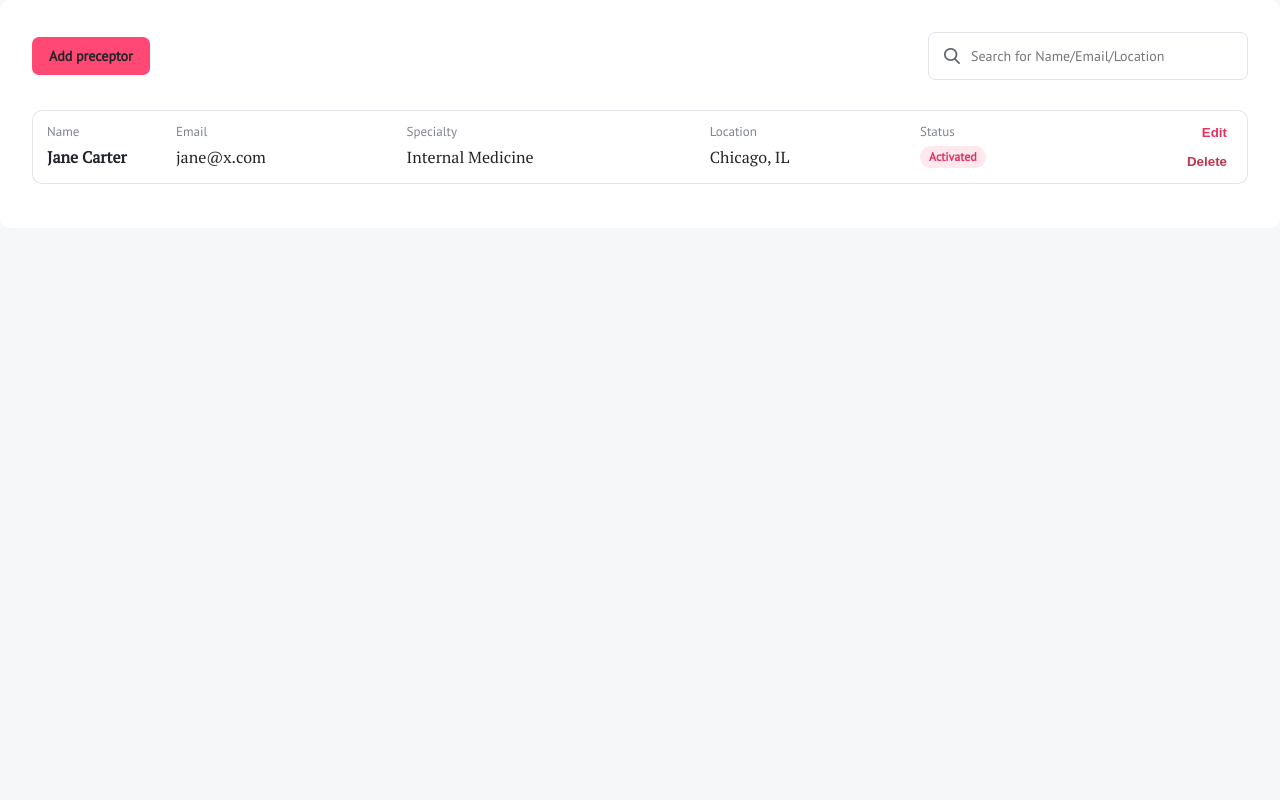
Test case: PreceptorsPage › creates a preceptor, mapping blank optionals to null
Expected: the text "Jane Carter" is shown, [47, 146, 127, 168]
Click the button "Add preceptor" at (91, 56), box [32, 37, 150, 75]
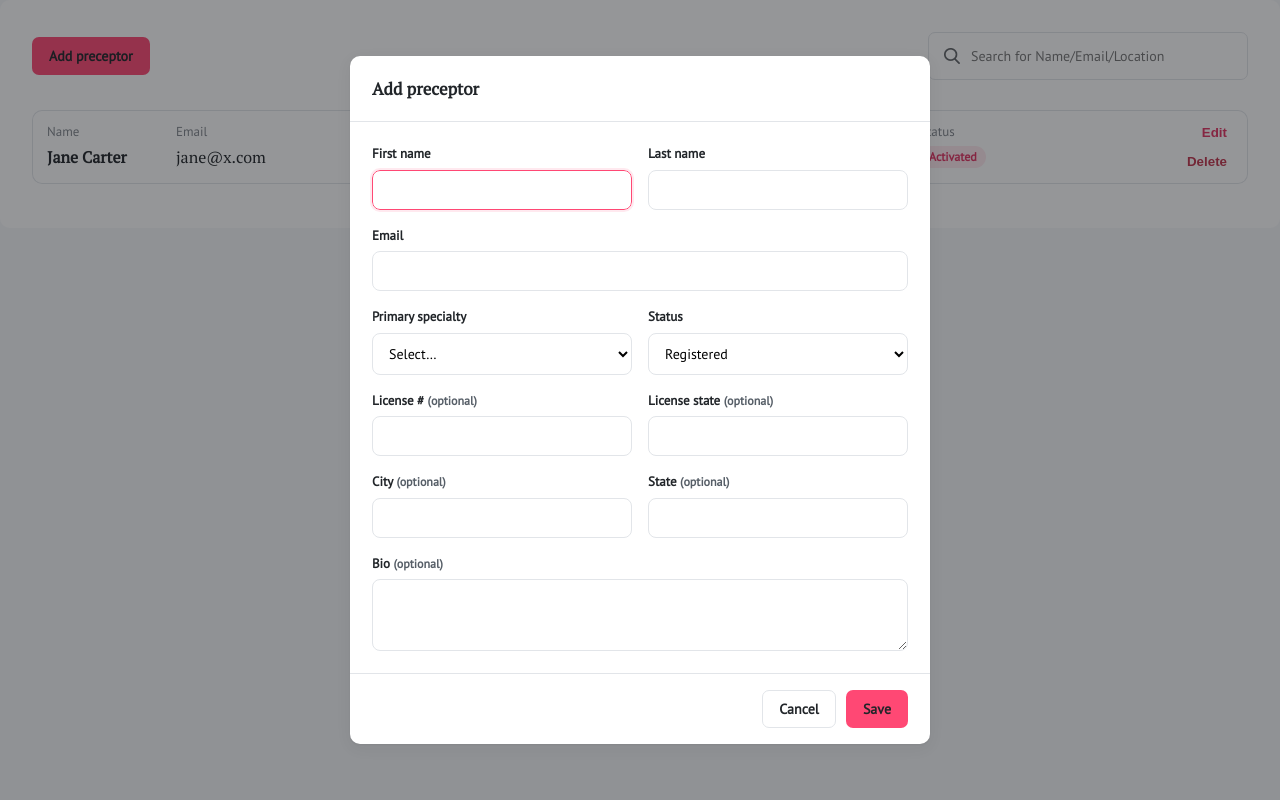
Type "Omar" into the field labelled "First name" at (502, 190), box [372, 170, 632, 210]
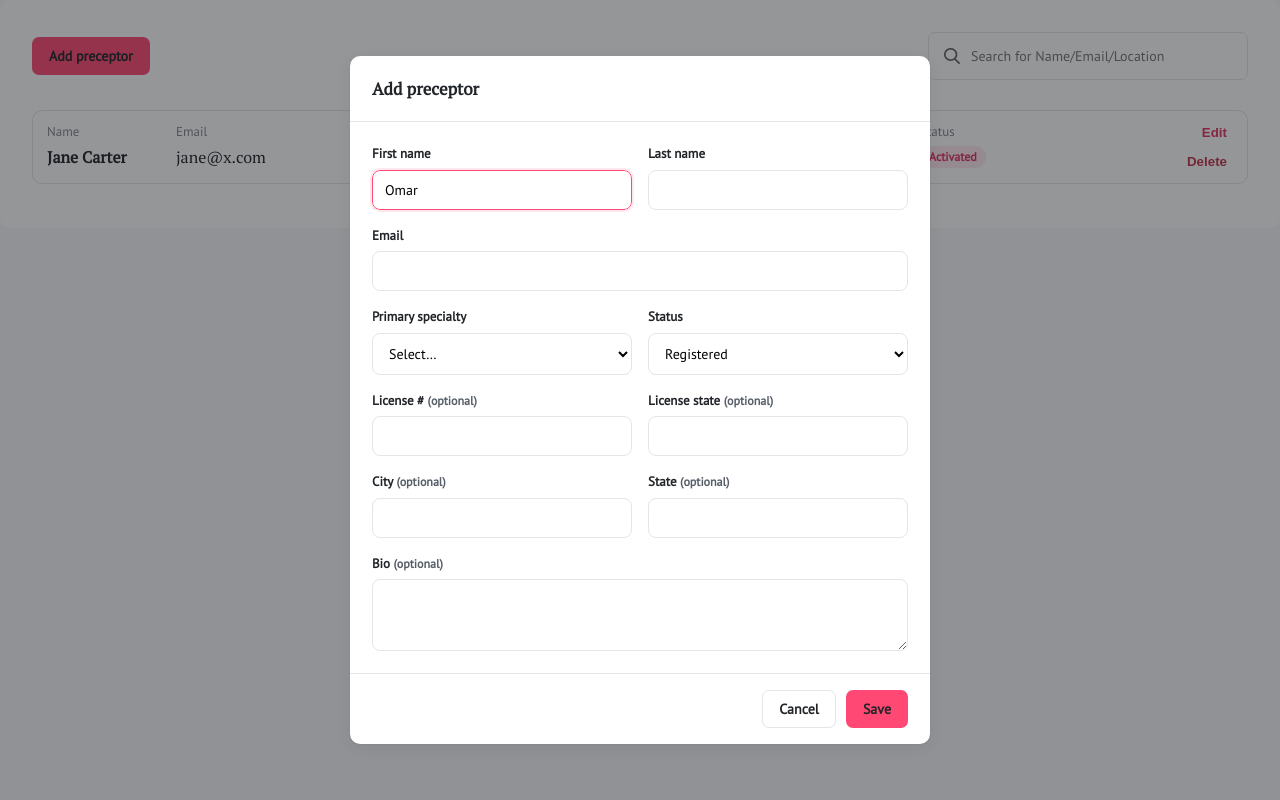
Type "Reyes" into the field labelled "Last name" at (778, 190), box [648, 170, 908, 210]
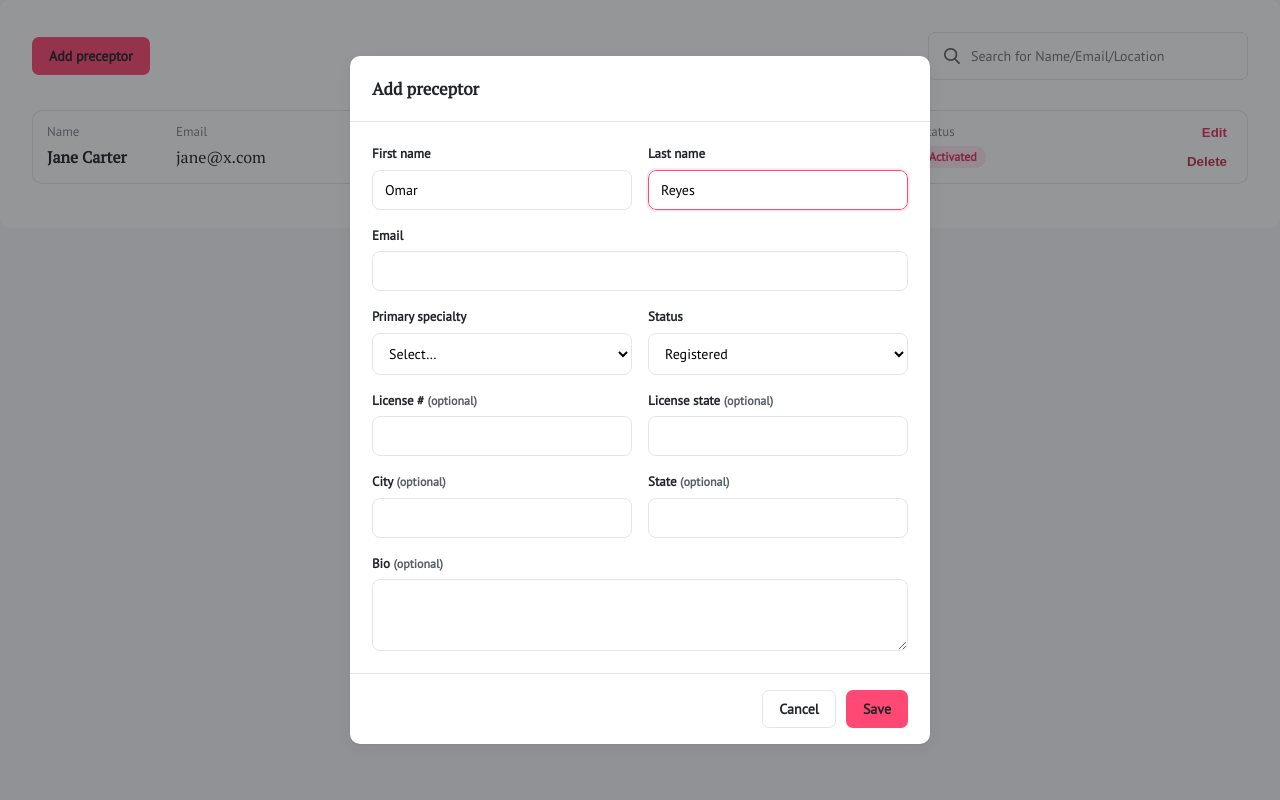
Type "omar@x.com" into the field labelled "Email" at (640, 271), box [372, 251, 908, 291]
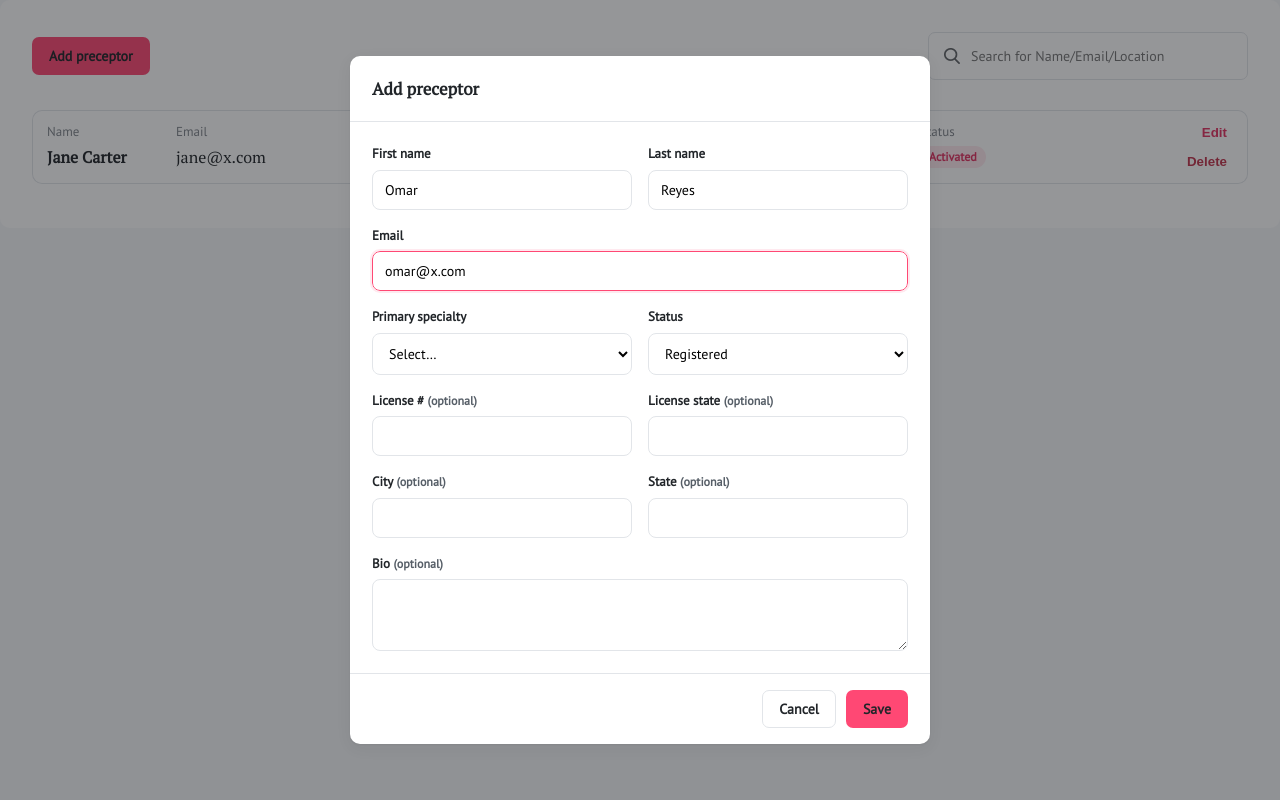
Select "Pediatrics" in the dropdown labelled "Primary specialty" at (502, 354), box [372, 333, 632, 375]
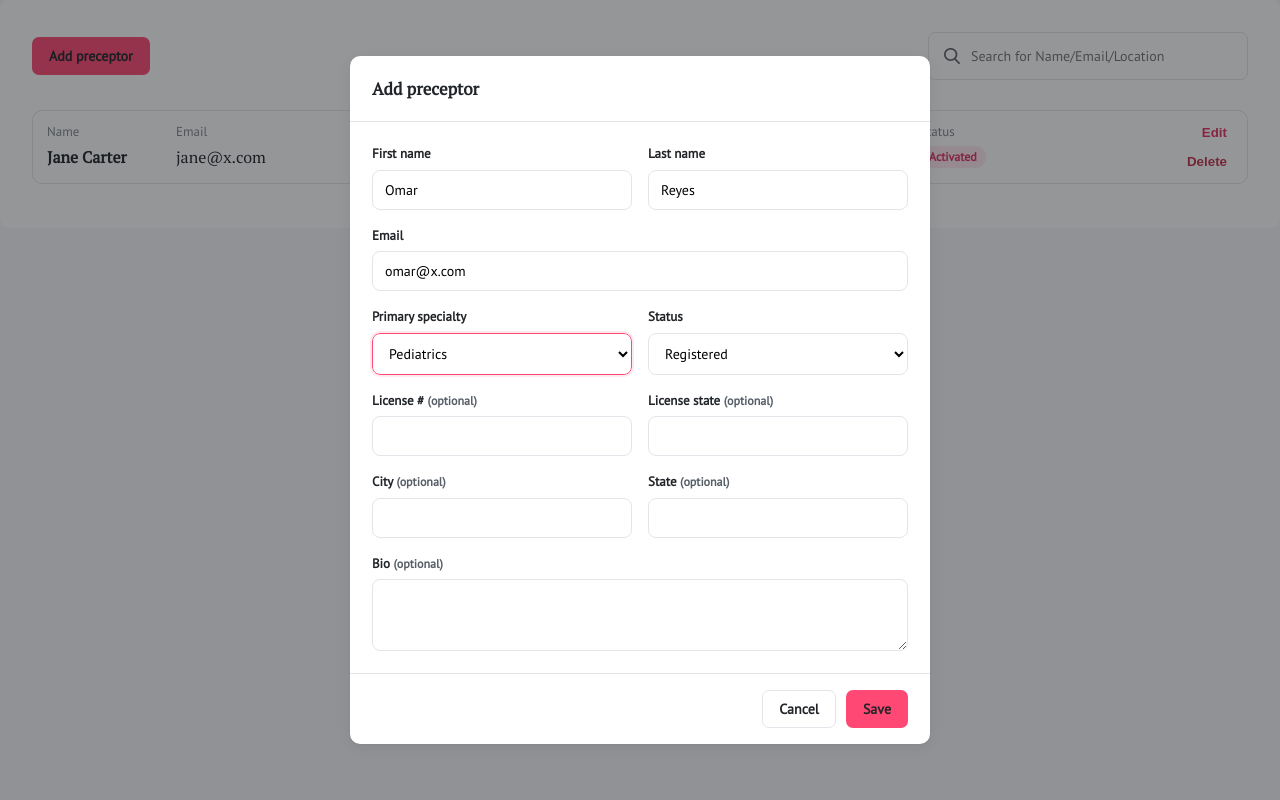
Click the button "Save" at (877, 709), box [846, 690, 908, 728]
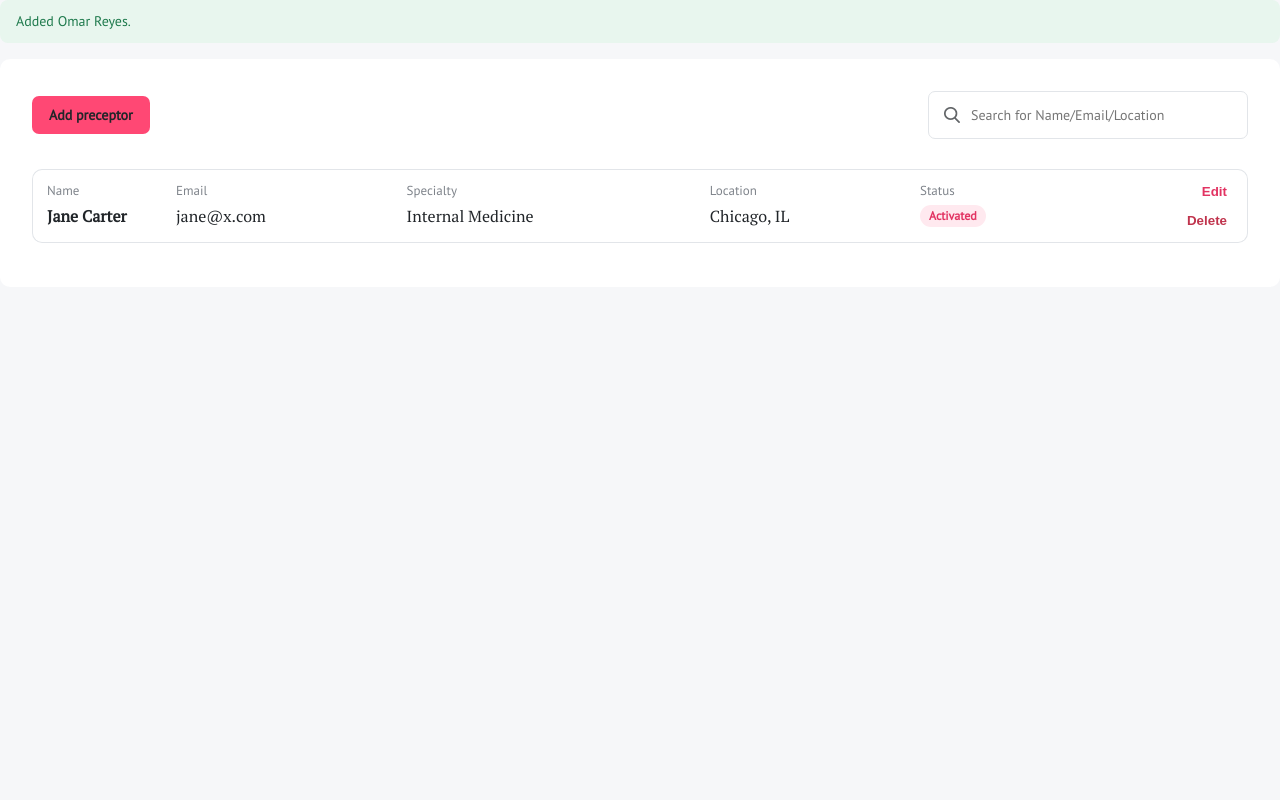
Expected: the text "Added Omar Reyes." is shown, [0, 0, 1279, 43]
